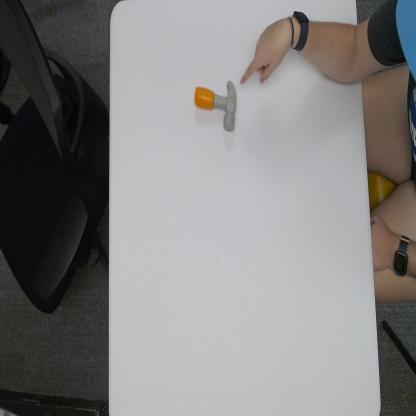Arm: (307, 20, 362, 86)
Hammer: (195, 80, 238, 131)
Hand: (241, 16, 292, 85)
